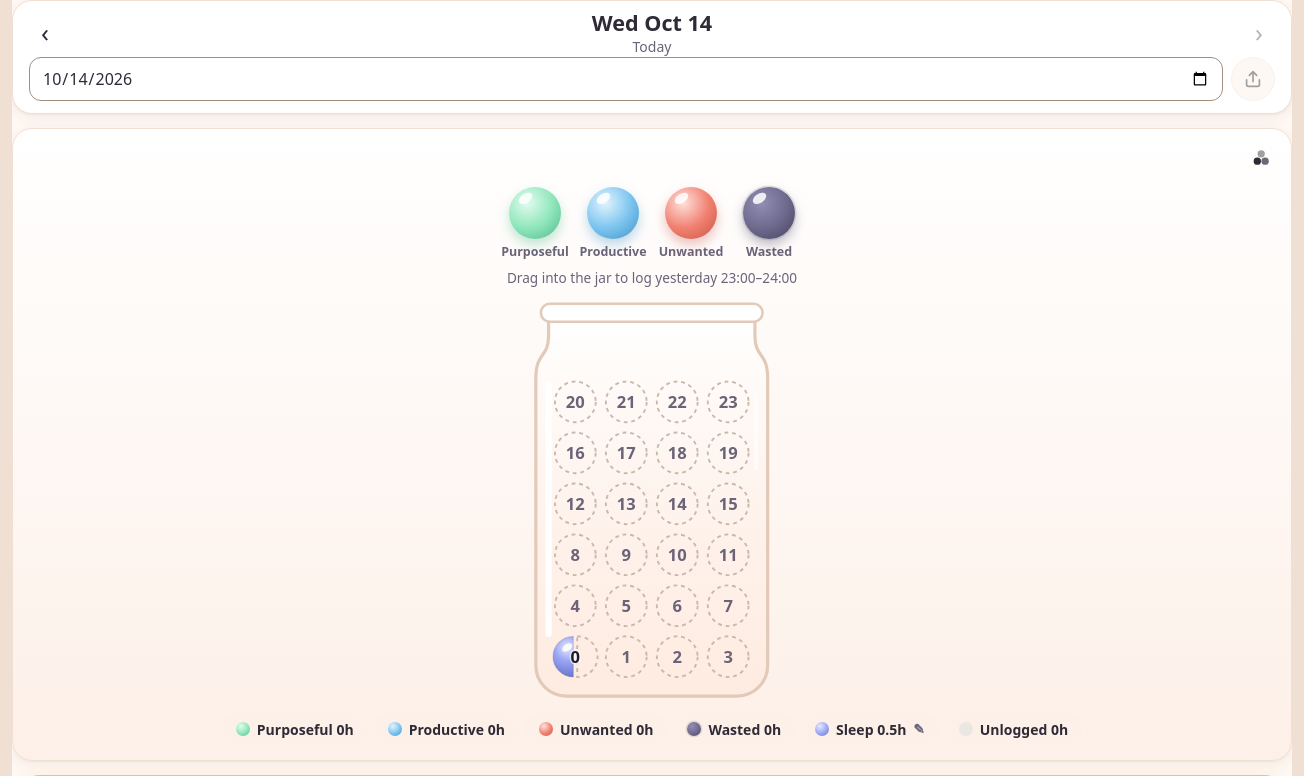
Test: DayView drag-to-drop tray › logs yesterday only just after midnight and says so
This screenshot has width=1304, height=776.
Expected: the text "Drag into the jar to log yesterday 23:00–24:00" is shown, [507,268,797,287]
Press the mouse on the button named "Log yesterday 23:00–24:00 as Productive" at (613, 213), box [587,187,639,239]
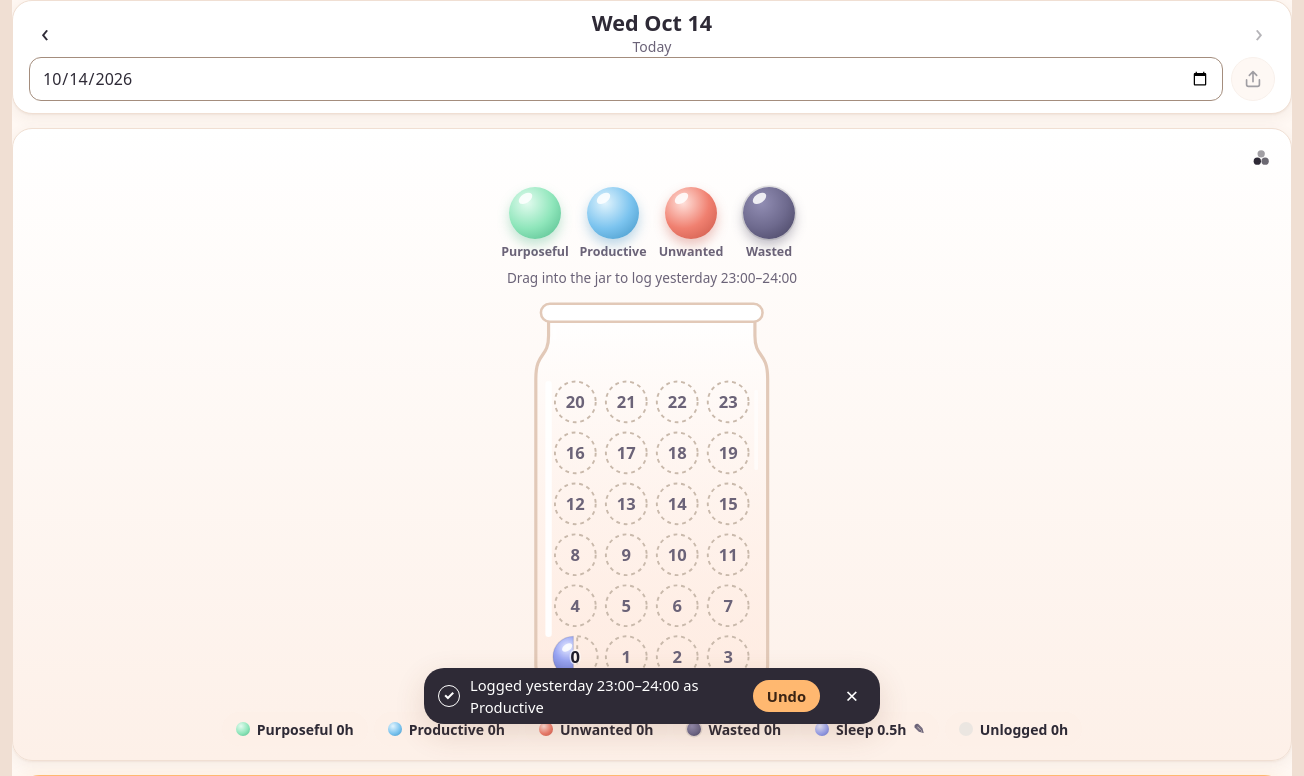
Result: the text "Logged yesterday 23:00–24:00 as Productive" is shown at [470,675,698,717]
